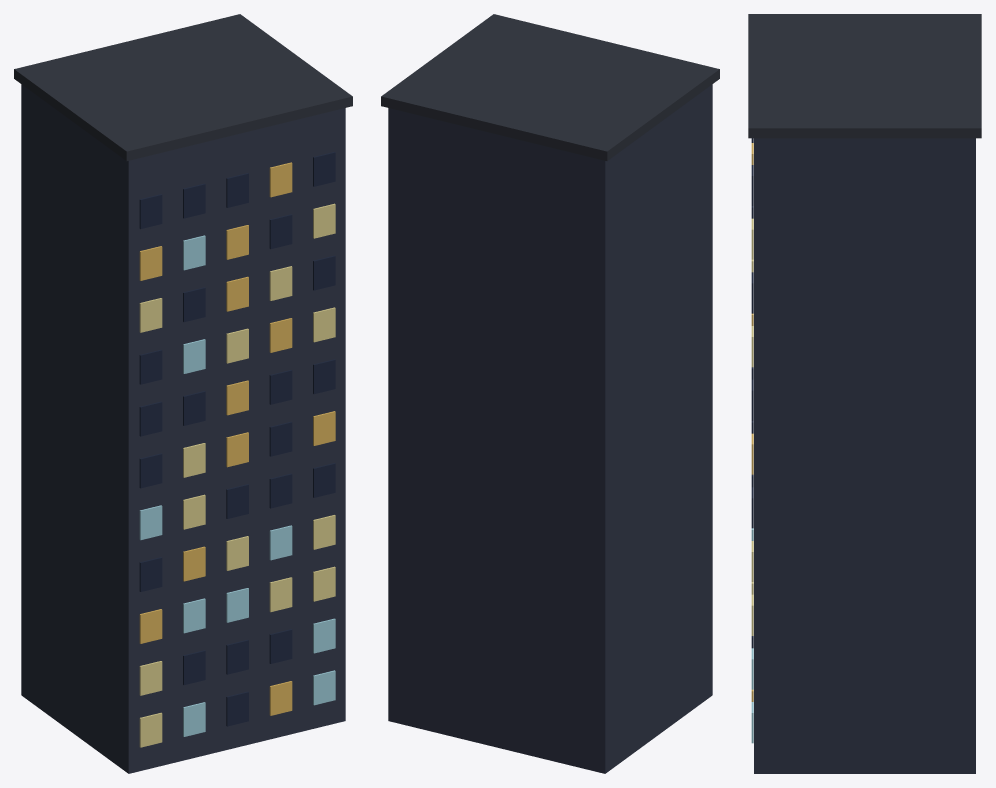
Rendered from city_block_1.glb.
The picture shows the model from 3 angles, left to right: view 1: azimuth 30°, elevation 25°; view 2: azimuth 150°, elevation 25°; view 3: azimuth 270°, elevation 25°; orthographic projection. The views are drawn at different scales.
Visible parts, largest first — view 1: CityBlock; view 2: CityBlock; view 3: CityBlock.
Part boxes in pixels (bbox=[...]): CityBlock: bbox=[14, 14, 352, 773]; CityBlock: bbox=[381, 14, 719, 773]; CityBlock: bbox=[748, 14, 981, 773].
Size of the model in its own units: 7.3 by 19.3 by 6.3.
